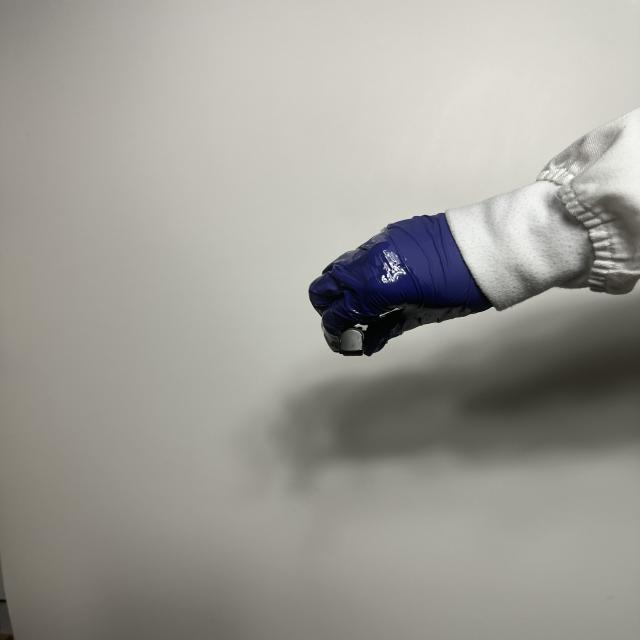gloves_contaminated: (309, 213, 492, 356)
